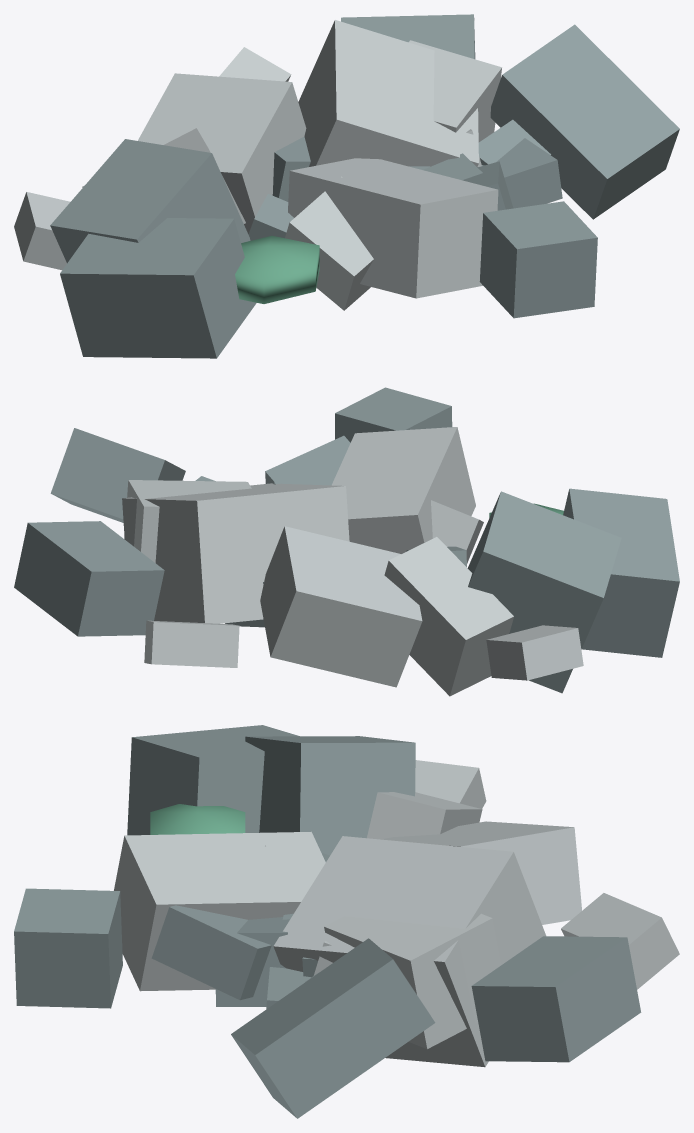
File: RubblePile.glb
The picture shows the model from 3 angles, top to bottom: view 1: azimuth 30°, elevation 25°; view 2: azimuth 150°, elevation 25°; view 3: azimuth 270°, elevation 25°; orthographic projection. The views are drawn at different scales.
Parts seen in each view (by area): view 1: rubble-pile; view 2: rubble-pile; view 3: rubble-pile.
Part boxes in pixels (x1,y1,x2,y2): rubble-pile: (14,14,679,358); rubble-pile: (14,387,679,696); rubble-pile: (14,725,679,1118).
Bounding box in the file's own units: 2.71 × 0.7541 × 2.32.
